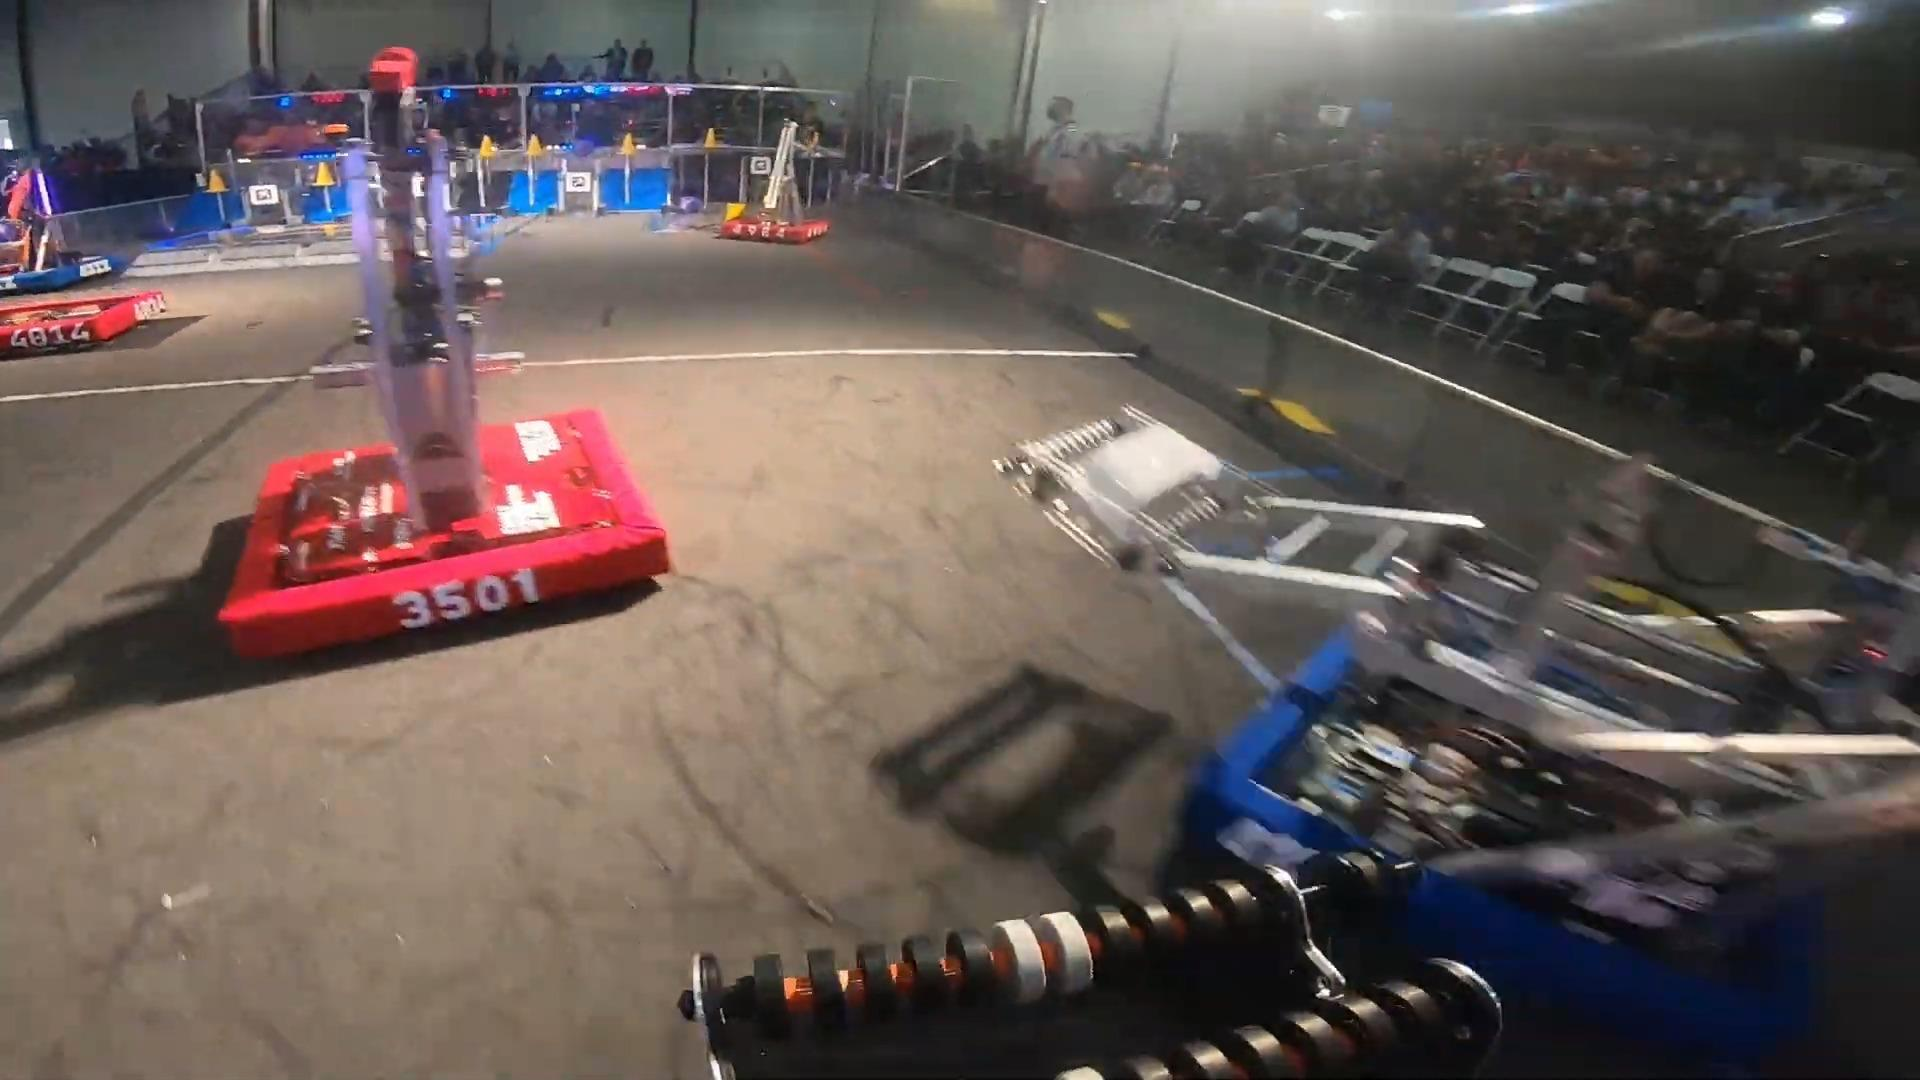robot: (997, 405, 1920, 1048), (208, 40, 674, 661), (0, 161, 123, 293), (717, 112, 833, 248), (0, 291, 169, 348)
